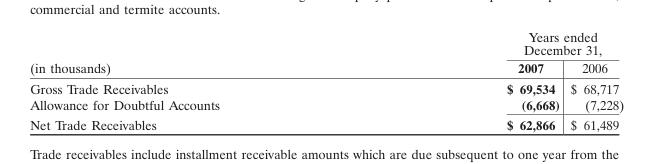table: (29, 28, 623, 132)
table column: (29, 28, 362, 132), (362, 28, 564, 132), (564, 28, 623, 132)
table column header: (29, 28, 623, 78)
table row: (29, 28, 623, 58), (29, 58, 623, 78), (29, 78, 623, 96), (29, 96, 623, 114), (29, 114, 623, 132)
table spanning cell: (29, 28, 362, 78), (362, 28, 623, 58)
